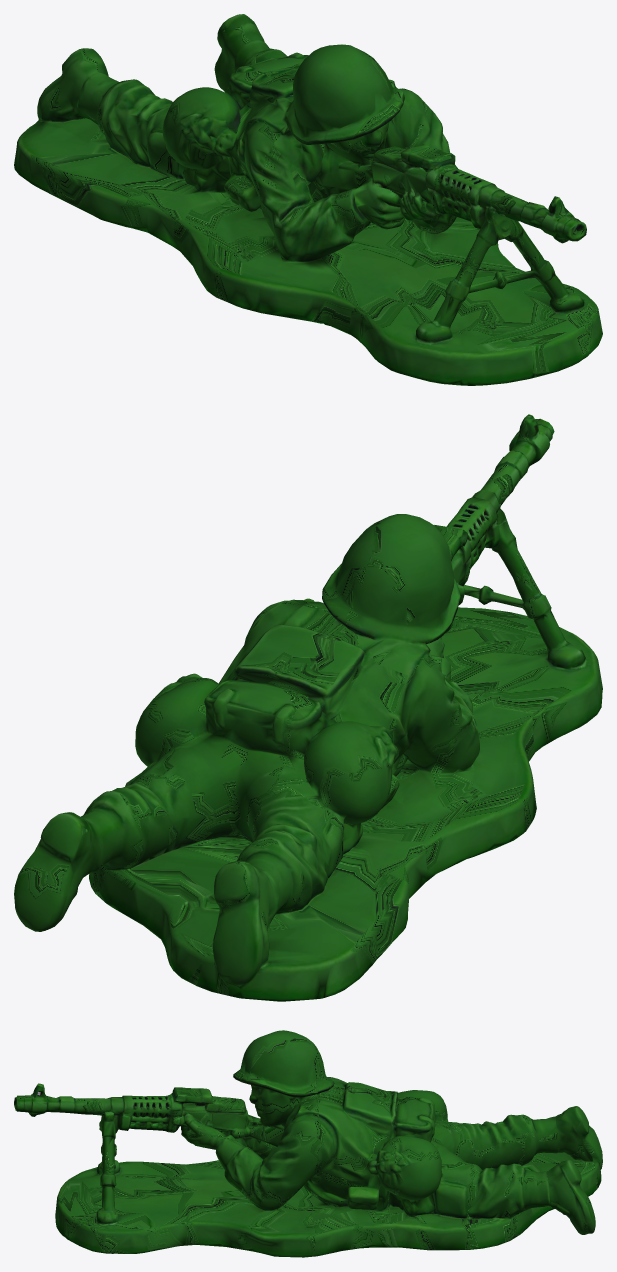
File: prone-sniper.glb
3 renders of one model, top to bottom at view 1: azimuth 30°, elevation 25°; view 2: azimuth 150°, elevation 25°; view 3: azimuth 270°, elevation 25°, orthographic. The views are drawn at different scales.
Parts seen in each view (by area): view 1: tripo_node_fd9ac681-6cd1-4faa-b5bb-ac5078f10519; view 2: tripo_node_fd9ac681-6cd1-4faa-b5bb-ac5078f10519; view 3: tripo_node_fd9ac681-6cd1-4faa-b5bb-ac5078f10519.
Boxes of the visible parts, <box> form: tripo_node_fd9ac681-6cd1-4faa-b5bb-ac5078f10519: <box>14,14,602,385</box>; tripo_node_fd9ac681-6cd1-4faa-b5bb-ac5078f10519: <box>14,414,602,1001</box>; tripo_node_fd9ac681-6cd1-4faa-b5bb-ac5078f10519: <box>14,1030,602,1257</box>.
Bounding box in the file's own units: 0.4147 × 0.3119 × 0.9799.
1 material, 1 textured.
